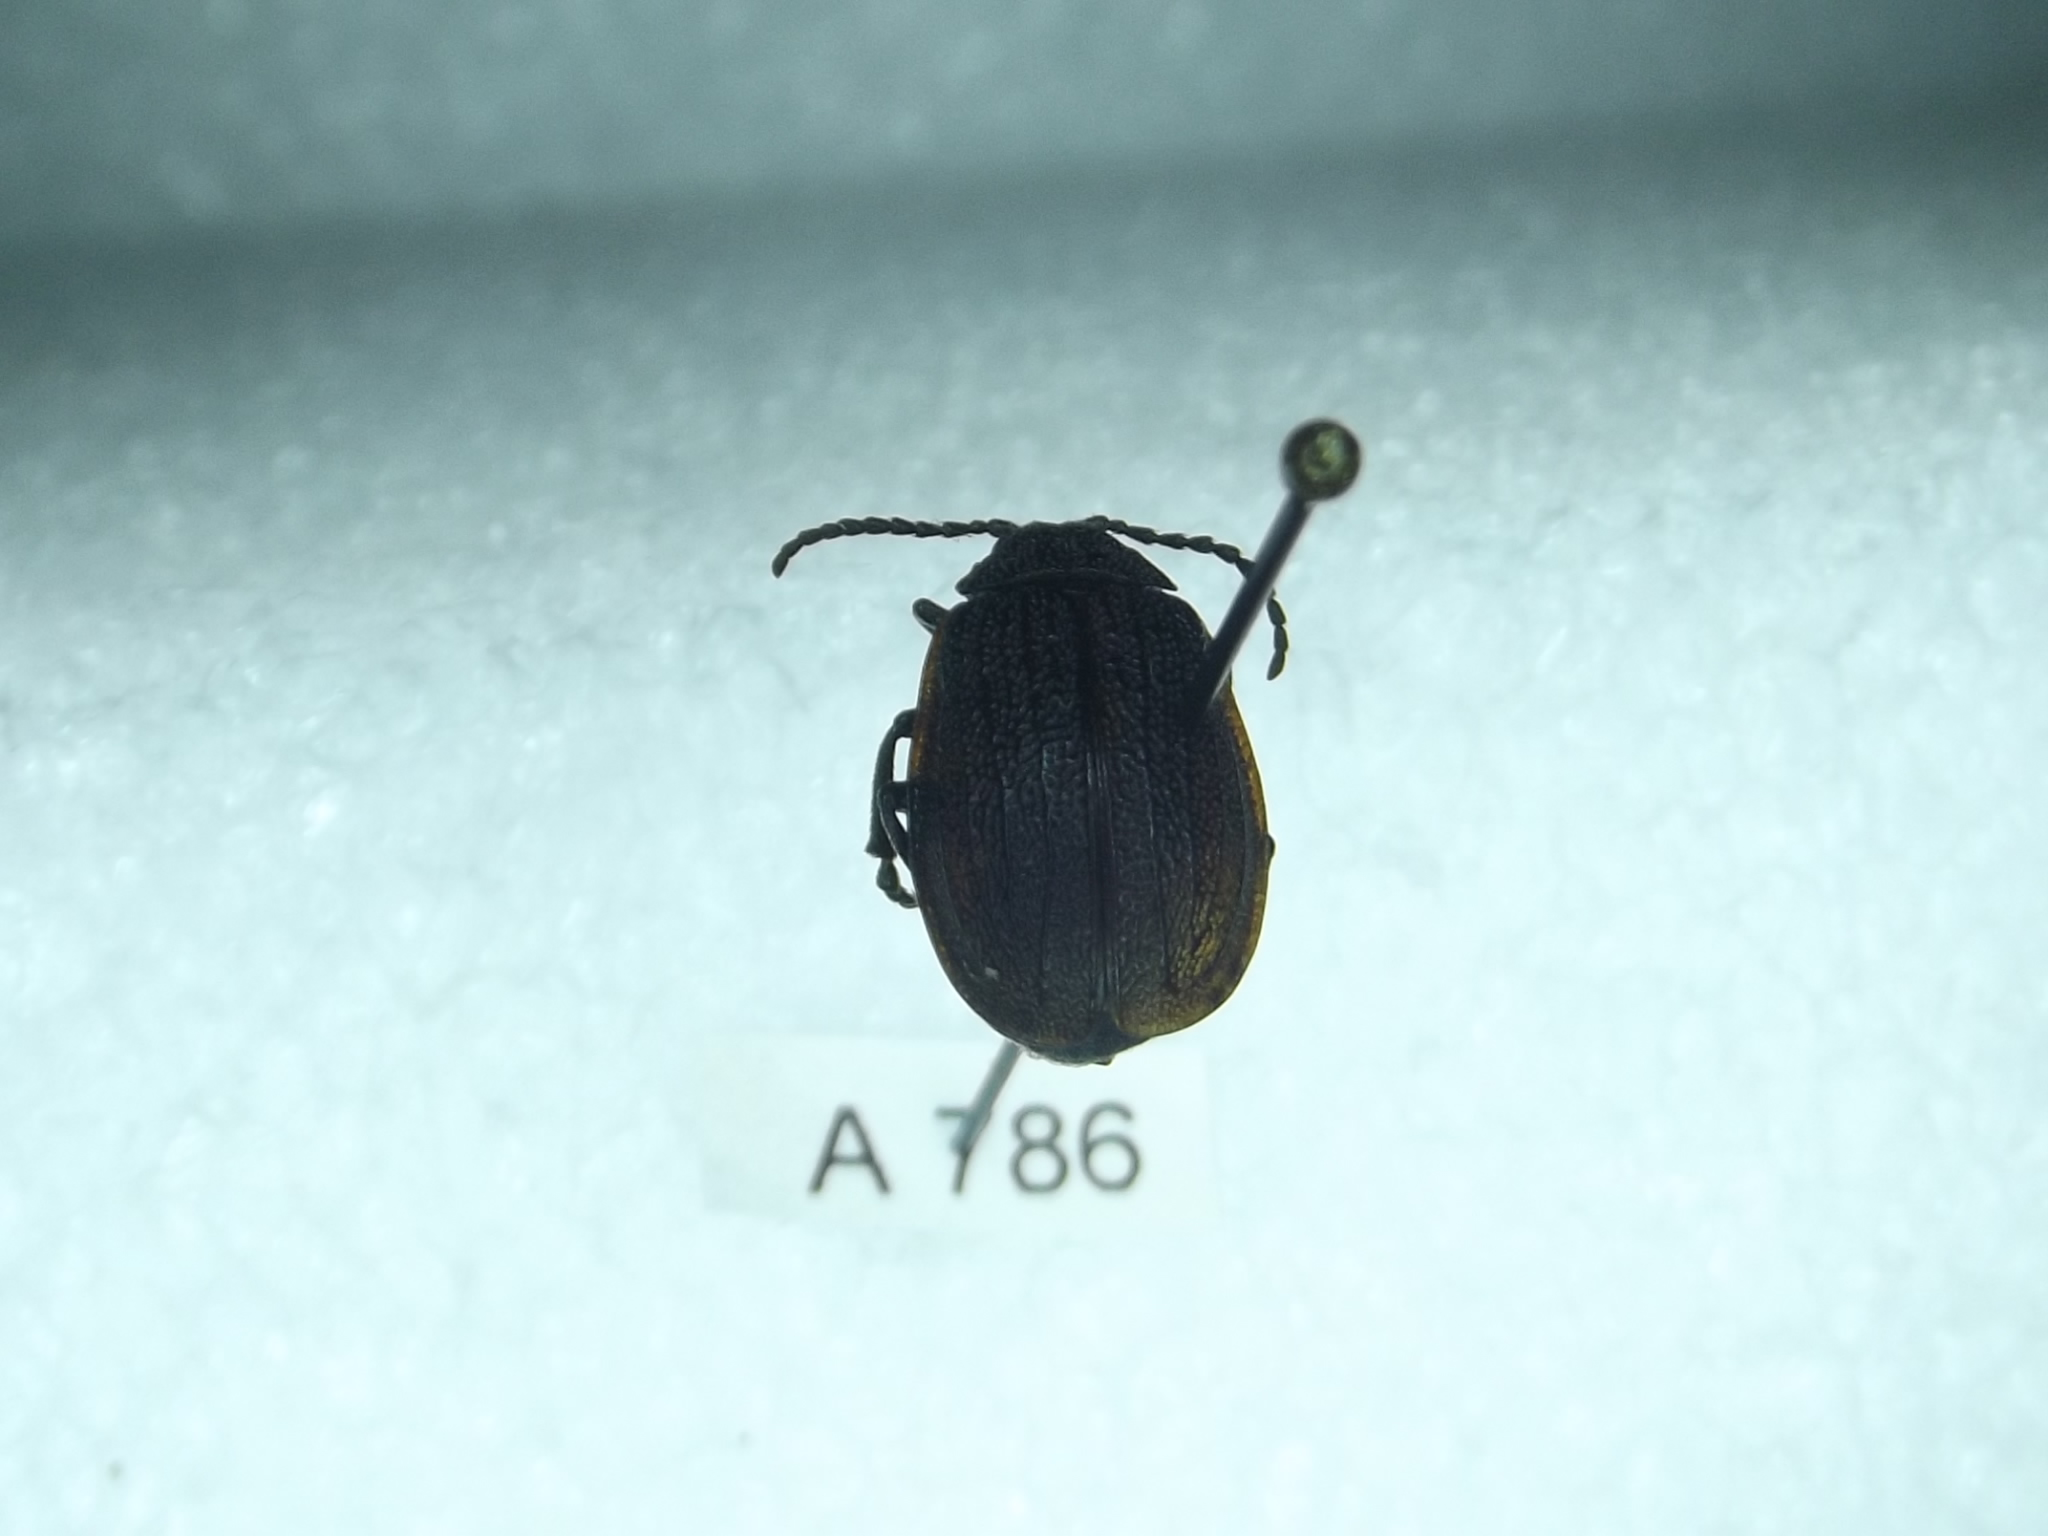Galeruca_tanaceti: (769, 502, 1300, 1062)
